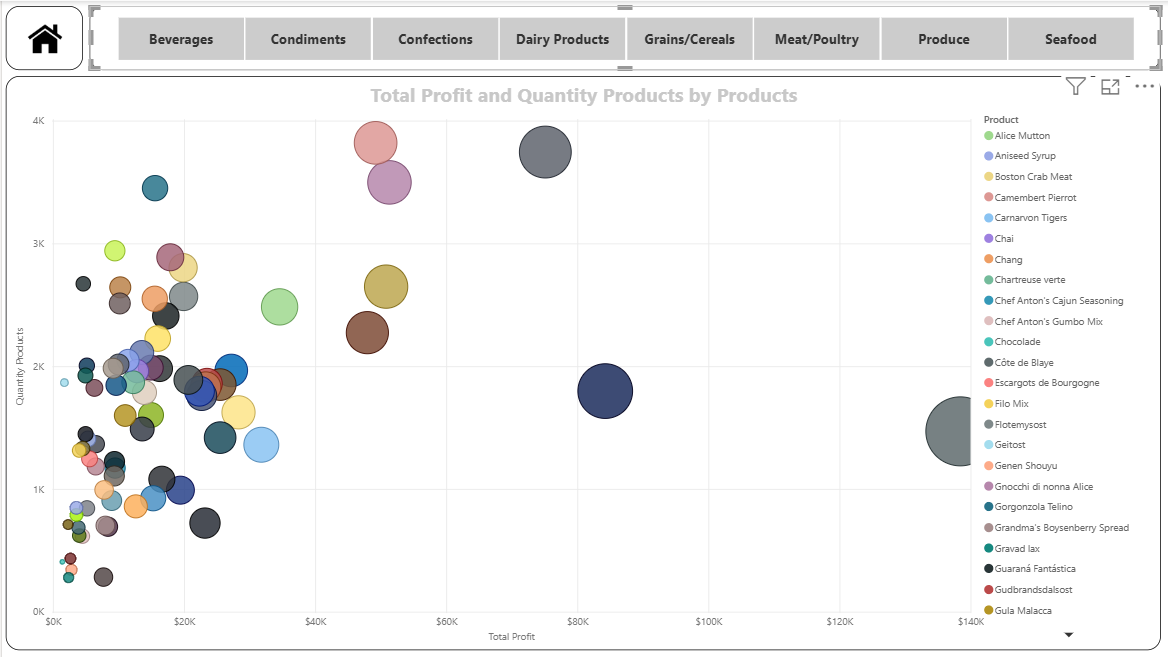

The dashboard page shown, as its layout file describes it:
{"tool":"powerbi","page":{"name":"Total Profit and Quantity Products by Products","canvas":[1280,720],"ordinal":3},"visuals":[{"type":"scatterChart","title":"Total Profit and Quantity Products by Products","fields":{"X":["NW_Orders_Details_Total.Total Profit"],"Y":["NW_Orders_Details_Total.Sum_Quantity"],"Series":["products_dir.product_name"],"Size":["NW_Orders_Details_Total.Total Profit"]},"box":[4.3,82.2,1267.9,630.5],"z":0},{"type":"slicer","fields":{"Values":["categories_dir.category_name"]},"box":[96,6.1,1176.2,70.1],"z":1000},{"type":"image","box":[4.3,6.1,84.8,70.1],"z":2000}]}

Visuals, with their boxes in screenshot pixels (x1, y1, x2, y2), scaled from the page's 1280x720 canvas onto the 1168x657 screenshot:
"Total Profit and Quantity Products by Products" scatterChart: (x1=4, y1=75, x2=1161, y2=650)
slicer - categories_dir.category_name: (x1=88, y1=6, x2=1161, y2=70)
image: (x1=4, y1=6, x2=81, y2=70)
